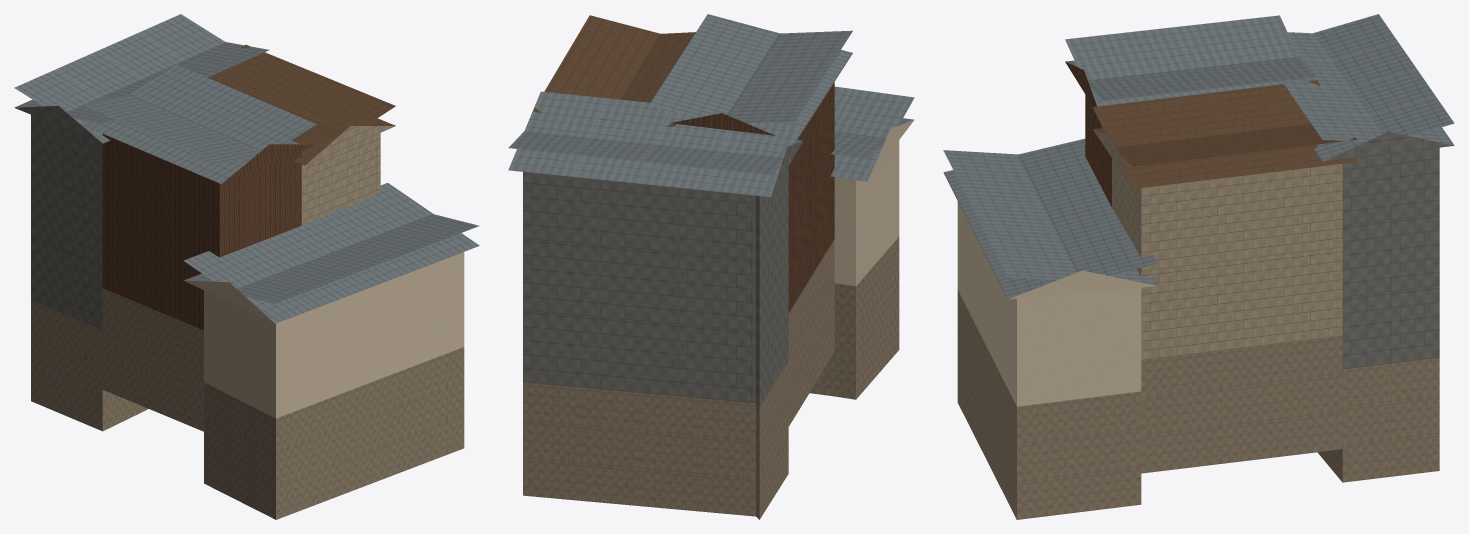
File: bld_c4_5_500.gltf
3 views of the same model, side by side, from view 1: azimuth 30°, elevation 25°; view 2: azimuth 150°, elevation 25°; view 3: azimuth 270°, elevation 25° (orthographic). The views are drawn at different scales.
Visible parts, largest first — view 1: bld_c4_5_500; view 2: bld_c4_5_500; view 3: bld_c4_5_500.
Boxes of the visible parts, <box> form: bld_c4_5_500: <box>14,14,479,519</box>; bld_c4_5_500: <box>508,14,914,519</box>; bld_c4_5_500: <box>943,14,1454,519</box>.
Size of the model in its own units: 15.78 by 16.3 by 20.87.
11 materials, 11 textured.
